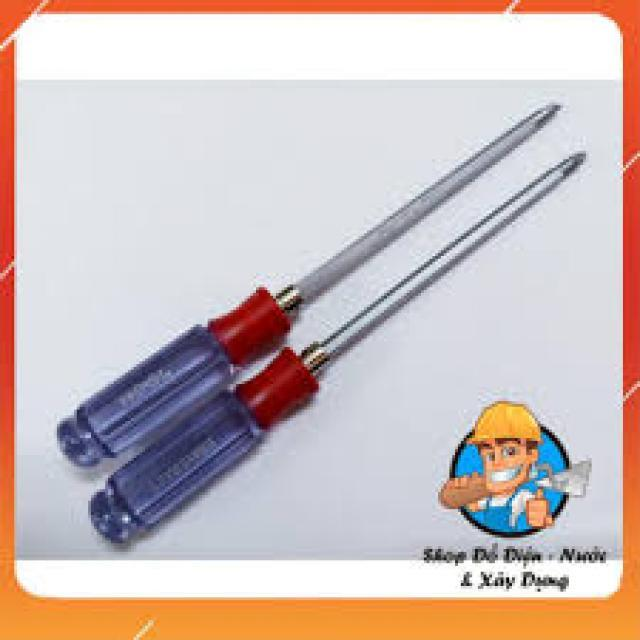screwdriver: (87, 150, 587, 550), (49, 101, 564, 471)
